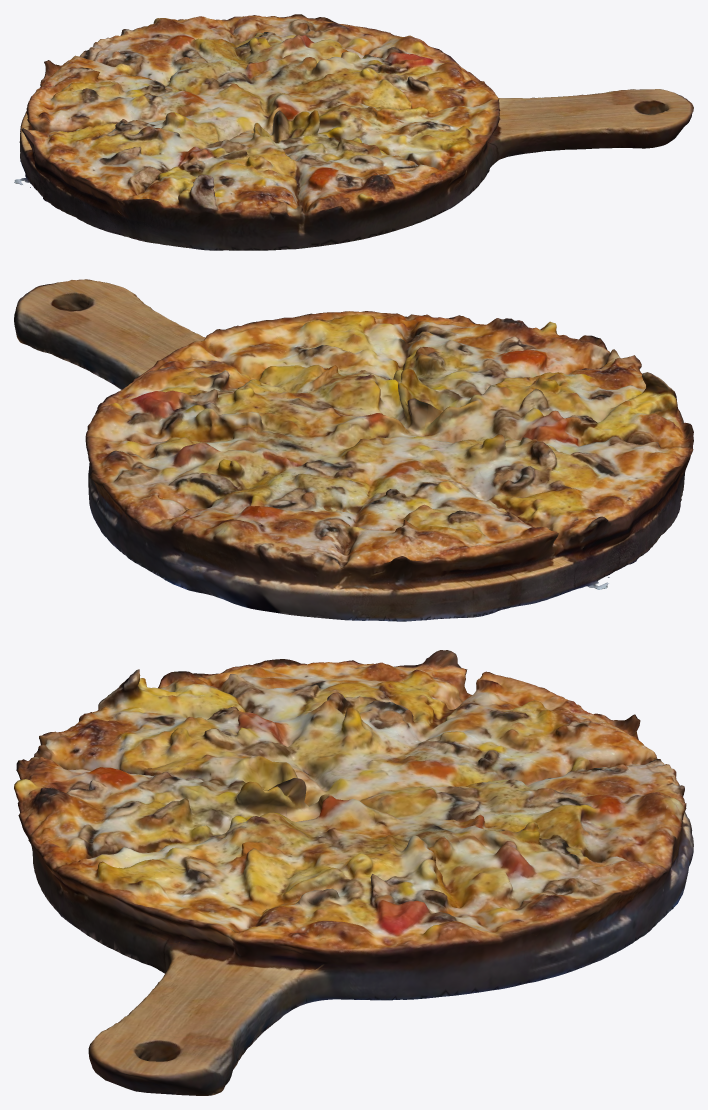
File: Pizza.Fille.glb
3 views of the same model, one above another, from view 1: azimuth 30°, elevation 25°; view 2: azimuth 150°, elevation 25°; view 3: azimuth 270°, elevation 25° (orthographic). The views are drawn at different scales.
Visible parts, largest first — view 1: 3DModel; view 2: 3DModel; view 3: 3DModel.
Boxes of the visible parts, <box> form: 3DModel: <box>14,14,693,250</box>; 3DModel: <box>14,279,693,621</box>; 3DModel: <box>14,650,693,1095</box>.
Size of the model in its own units: 0.4037 by 0.0499 by 0.2985.
1 material, 1 textured.
